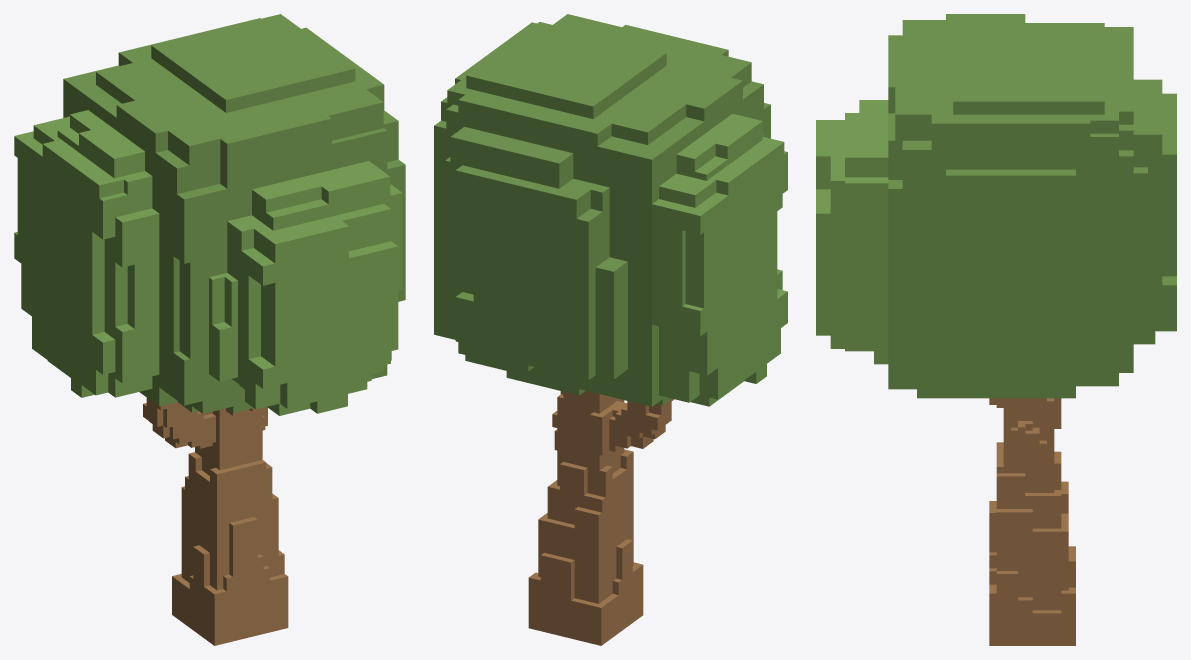
The model's file is BeesAndTrees-12.obj.
The picture shows the model from 3 angles, left to right: view 1: azimuth 30°, elevation 25°; view 2: azimuth 150°, elevation 25°; view 3: azimuth 270°, elevation 25°; orthographic projection. The views are drawn at different scales.
Size of the model in its own units: 4.6 by 8.7 by 5.
1 material, 1 textured.
